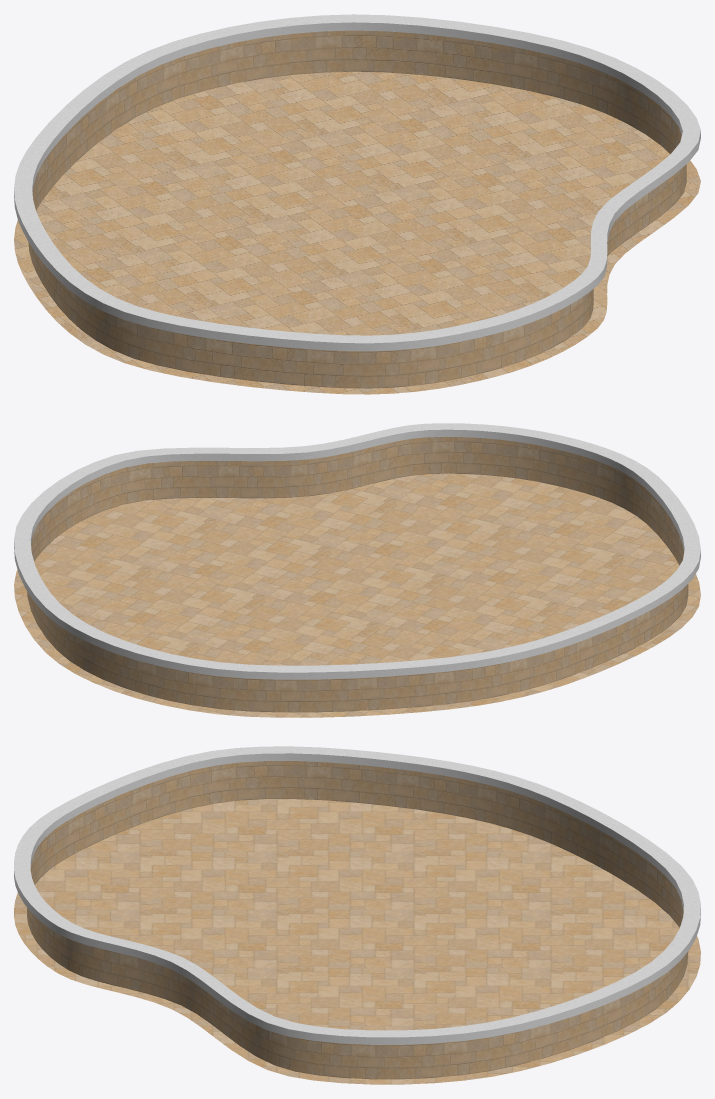
Rendered from terreno-externo-golf.glb.
3 views of the same model, one above another, from view 1: azimuth 30°, elevation 25°; view 2: azimuth 150°, elevation 25°; view 3: azimuth 270°, elevation 25° (orthographic). The views are drawn at different scales.
Visible parts, largest first — view 1: Line002, Line001, Line001.001; view 2: Line002, Line001, Line001.001; view 3: Line002, Line001, Line001.001.
Part boxes in pixels (<box>): Line002: <box>14,71,700,394</box>; Line001: <box>28,30,686,388</box>; Line001.001: <box>14,14,700,351</box>; Line002: <box>14,473,700,717</box>; Line001: <box>27,437,688,712</box>; Line001.001: <box>14,423,700,679</box>; Line002: <box>14,799,700,1084</box>; Line001: <box>27,761,688,1079</box>; Line001.001: <box>14,746,700,1044</box>.
Size of the model in its own units: 9.27 by 0.7007 by 9.25.
3 materials, 3 textured.
